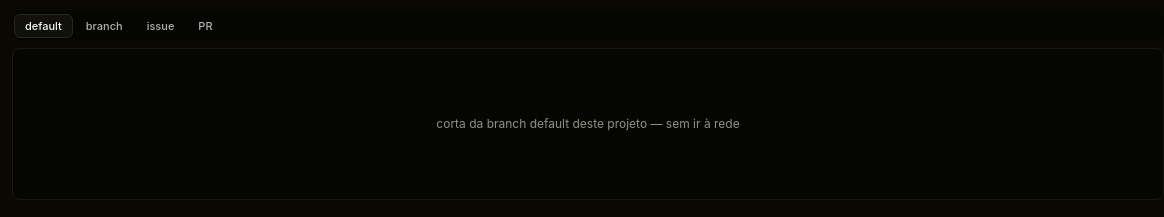
Test case: as quatro origens › a PR de fork diz de onde ela vem, e continua clicável
Click the button "PR". click: (205, 26)
box: [187,14,224,38]
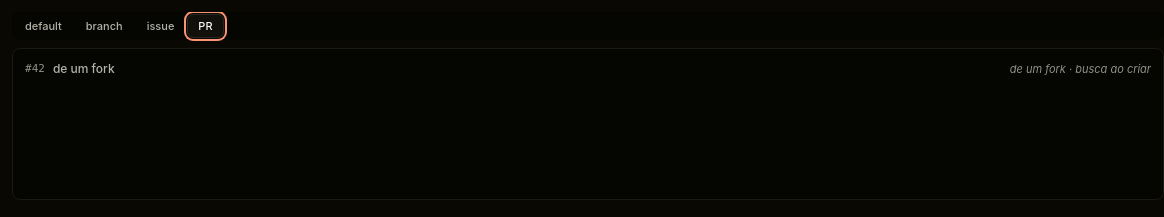
Now the option "#42 de um fork de um fork · busca ao criar" is enabled, box [17,53,1159,85]
Now the text "de um fork · busca ao criar" is shown, box [1010,62,1151,76]
